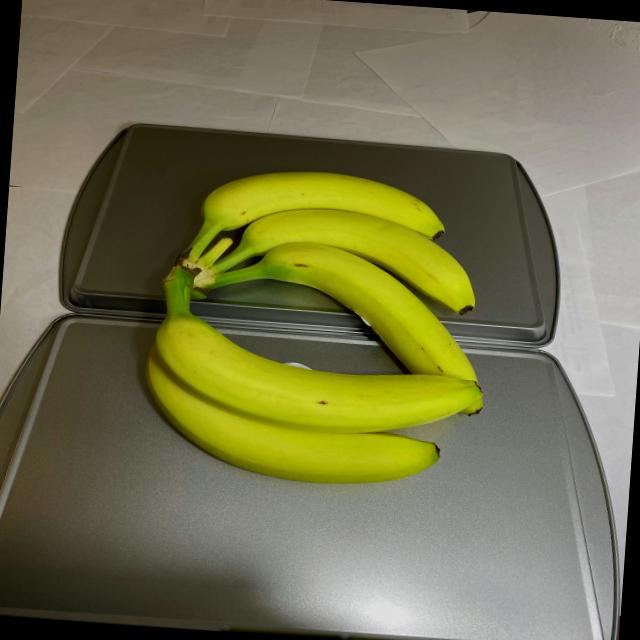banana: (130, 159, 496, 496)
